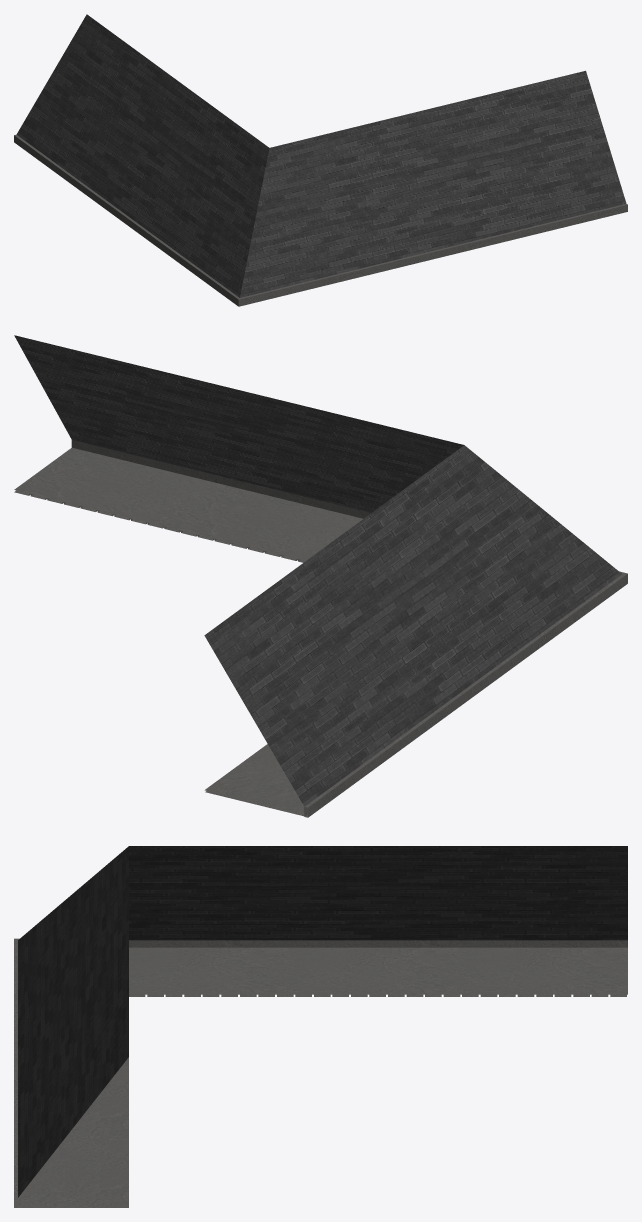
The model's file is Sm_Roof01d.fbx.
The picture shows the model from 3 angles, top to bottom: view 1: azimuth 30°, elevation 25°; view 2: azimuth 150°, elevation 25°; view 3: azimuth 270°, elevation 25°; orthographic projection. The views are drawn at different scales.
Visible parts, largest first — view 1: Sm_Roof01d; view 2: Sm_Roof01d; view 3: Sm_Roof01d.
Boxes of the visible parts, bbox=[...] form: Sm_Roof01d: bbox=[14, 14, 627, 306]; Sm_Roof01d: bbox=[14, 335, 627, 817]; Sm_Roof01d: bbox=[14, 846, 627, 1207].
Bounding box in the file's own units: 554 × 554 × 150.
Materials: 2 (2 with a texture image).
